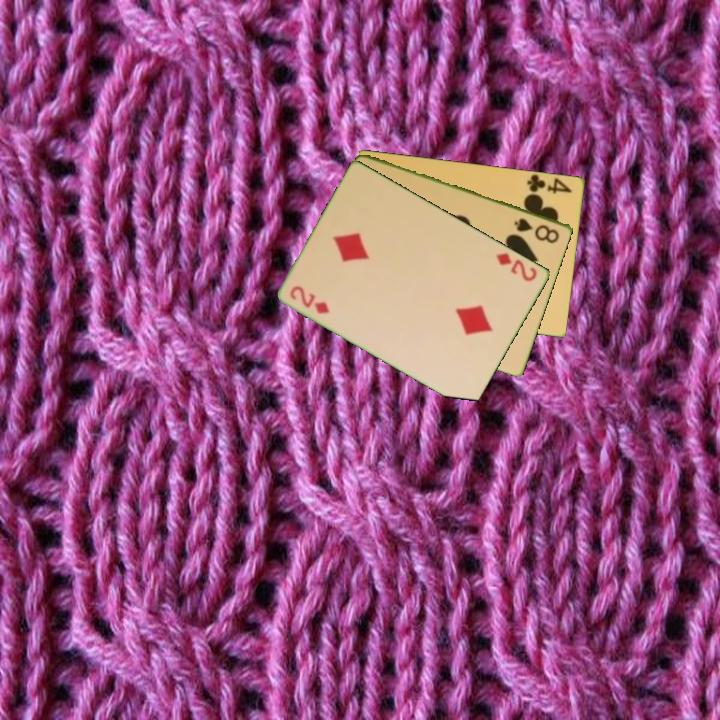2d: (493, 249, 540, 284), (286, 282, 333, 317)
4c: (524, 172, 575, 196)
8s: (511, 214, 563, 246)
